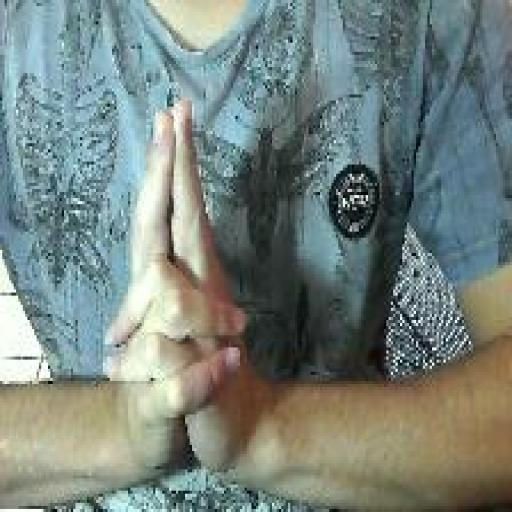Tora -tiger-: (97, 96, 253, 501)
